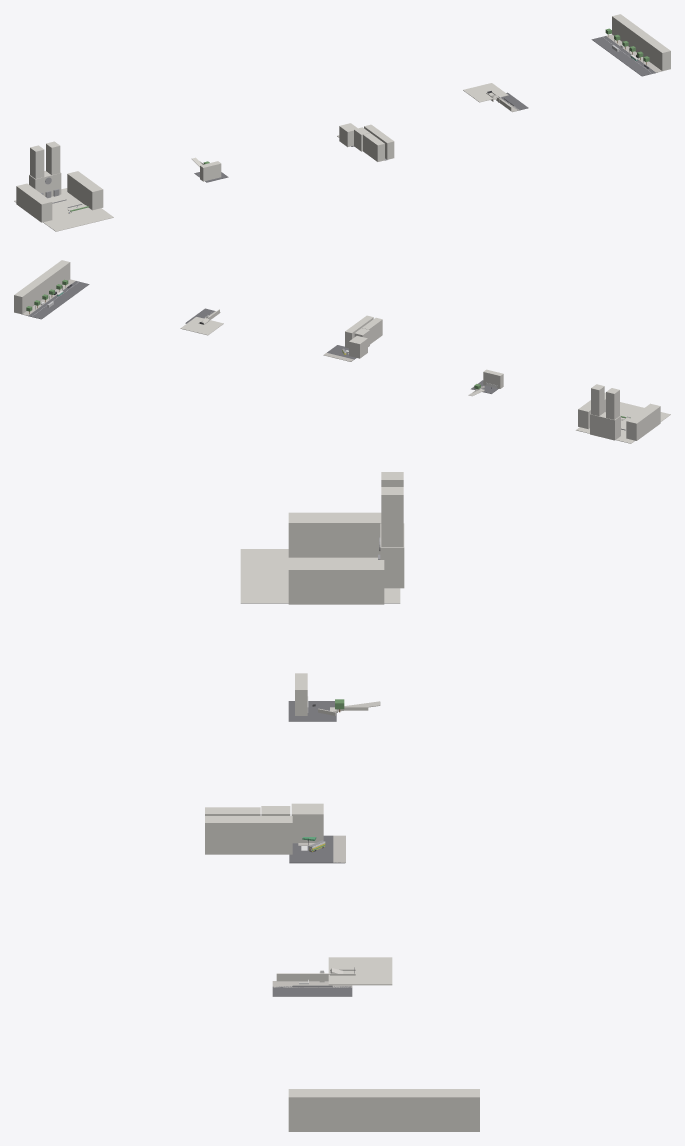
3 renders of one model, top to bottom at view 1: azimuth 30°, elevation 25°; view 2: azimuth 150°, elevation 25°; view 3: azimuth 270°, elevation 25°, orthographic. The views are drawn at different scales.
Parts seen in each view (by area): view 1: S01_ground, S05_bldg_facade, S01_bldg_west, S01_bldg_east, S05_boulevard_road, S01_ND_base, S04_terrace_floor, S06_bldg_west, S01_ND_tower_left, S01_ND_tower_right, S06_bldg_east, S02_bldg_dali; view 2: S05_bldg_facade, S01_bldg_west, S01_ND_base, S05_boulevard_road, S01_ground, S04_terrace_floor, S01_ND_tower_left, S01_ND_tower_right, S03_cafe_bldg, S01_bldg_east, S06_bldg_west, S02_bldg_dali (+1 smaller); view 3: S05_bldg_facade, S01_bldg_east, S01_bldg_west, S06_bldg_east, S01_ground, S04_terrace_floor, S01_ND_tower_right, S03_cafe_bldg, S01_ND_base.
Boxes of the visible parts, box(x1,y1,x2,y2) form: S01_ground: box(14, 188, 113, 231); S05_bldg_facade: box(612, 14, 670, 70); S01_bldg_west: box(16, 183, 52, 222); S01_bldg_east: box(67, 171, 103, 210); S05_boulevard_road: box(591, 36, 657, 76); S01_ND_base: box(29, 171, 61, 196); S04_terrace_floor: box(463, 83, 508, 102); S06_bldg_west: box(363, 133, 384, 161); S01_ND_tower_left: box(30, 145, 44, 178); S01_ND_tower_right: box(46, 141, 60, 174); S06_bldg_east: box(364, 124, 394, 159); S02_bldg_dali: box(200, 161, 221, 181); S05_bldg_facade: box(14, 260, 70, 314); S01_bldg_west: box(626, 403, 660, 440); S01_ND_base: box(590, 412, 620, 440); S05_boulevard_road: box(27, 281, 89, 319); S01_ground: box(576, 402, 670, 443); S04_terrace_floor: box(180, 317, 223, 335); S01_ND_tower_left: box(606, 388, 619, 419); S01_ND_tower_right: box(591, 384, 604, 415); S03_cafe_bldg: box(349, 336, 367, 358); S01_bldg_east: box(578, 392, 605, 429); S06_bldg_west: box(362, 317, 382, 344); S02_bldg_dali: box(483, 369, 503, 388); S05_bldg_facade: box(288, 1089, 479, 1131); S01_bldg_east: box(288, 560, 384, 604); S01_bldg_west: box(288, 512, 381, 557); S06_bldg_east: box(205, 816, 292, 854); S01_ground: box(240, 549, 400, 603); S04_terrace_floor: box(328, 957, 392, 985); S01_ND_tower_right: box(381, 487, 403, 546); S03_cafe_bldg: box(291, 803, 323, 843); S01_ND_base: box(380, 523, 404, 588).
Size of the model in its own units: 866 by 66.12 by 172.
